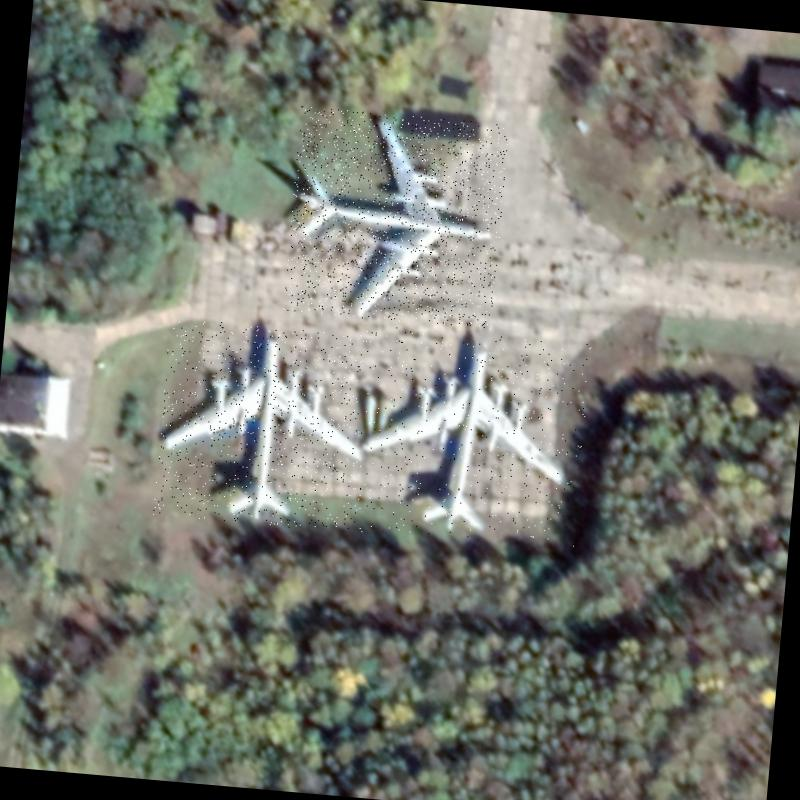A17: (349, 325, 592, 547), (284, 107, 510, 330), (152, 318, 380, 534)
